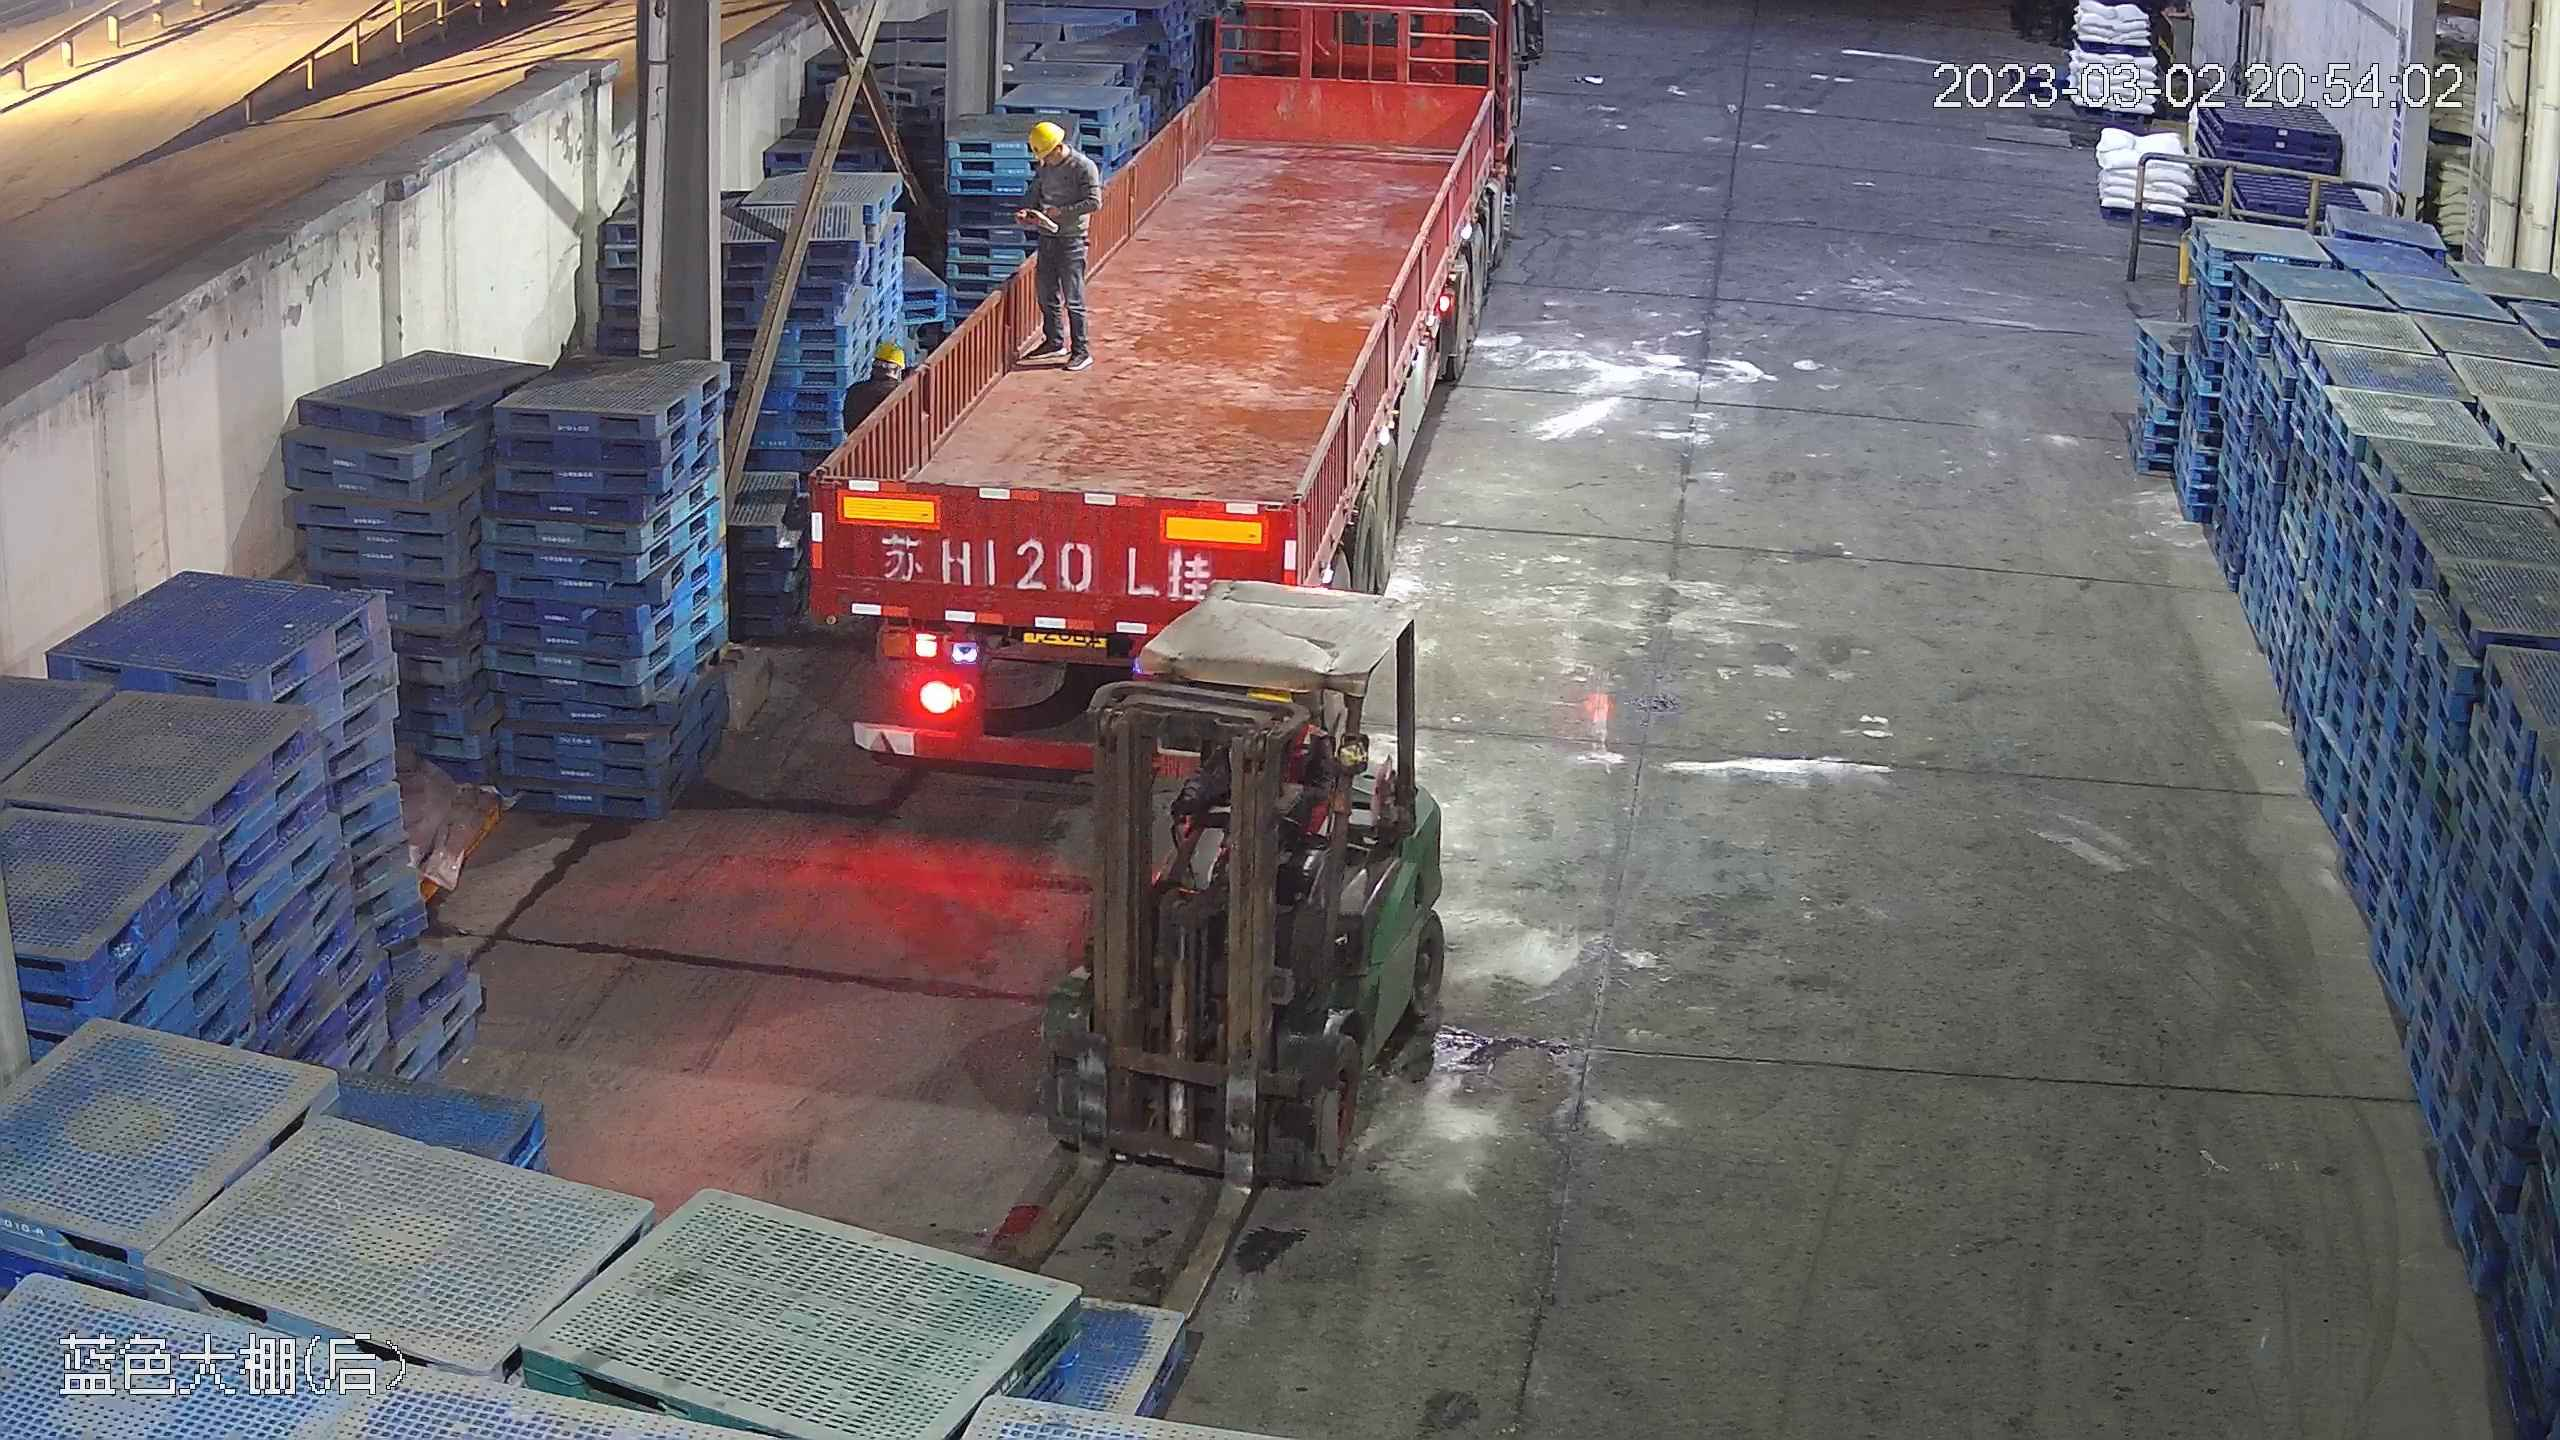head: (1019, 118, 1093, 199), (842, 338, 914, 413)
helmet: (1026, 118, 1065, 155), (871, 339, 906, 366)
people: (1011, 116, 1099, 365)
truck: (788, 9, 1539, 726)
